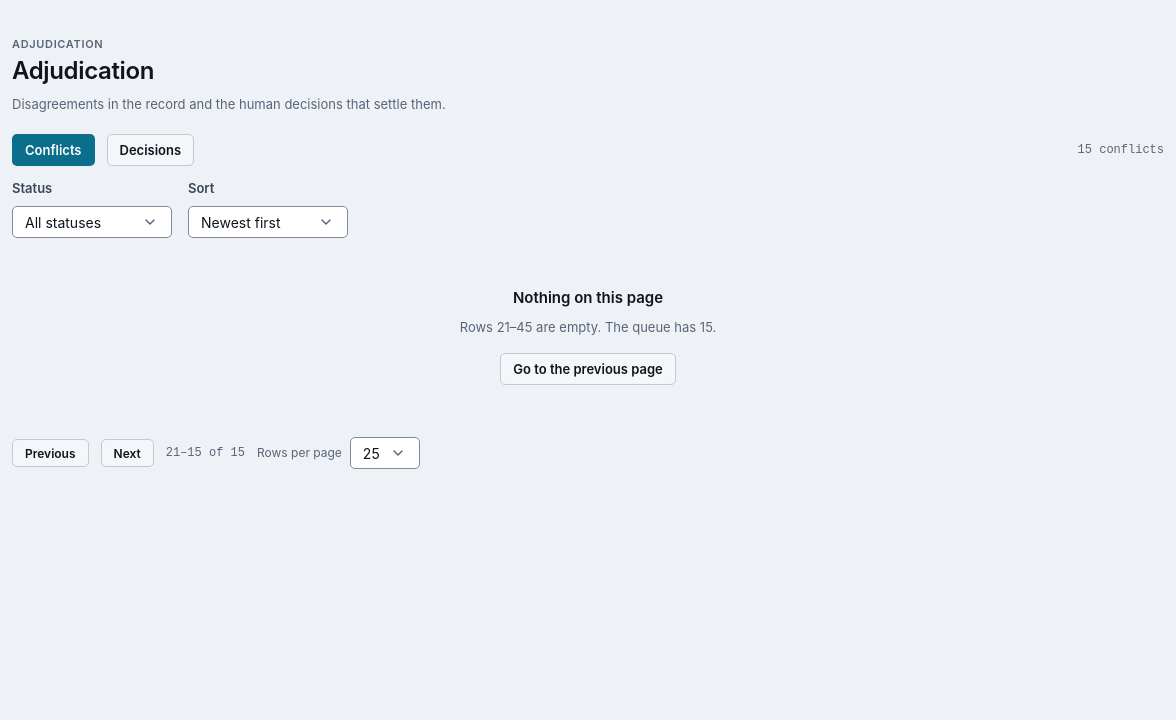
AdjudicationPage › offers a previous-page action when the page is empty but the count is not
What coordinates should you click on to do the following:
click the button "Go to the previous page"
I would click on:
 (588, 369)
Its box is [500, 353, 676, 385].
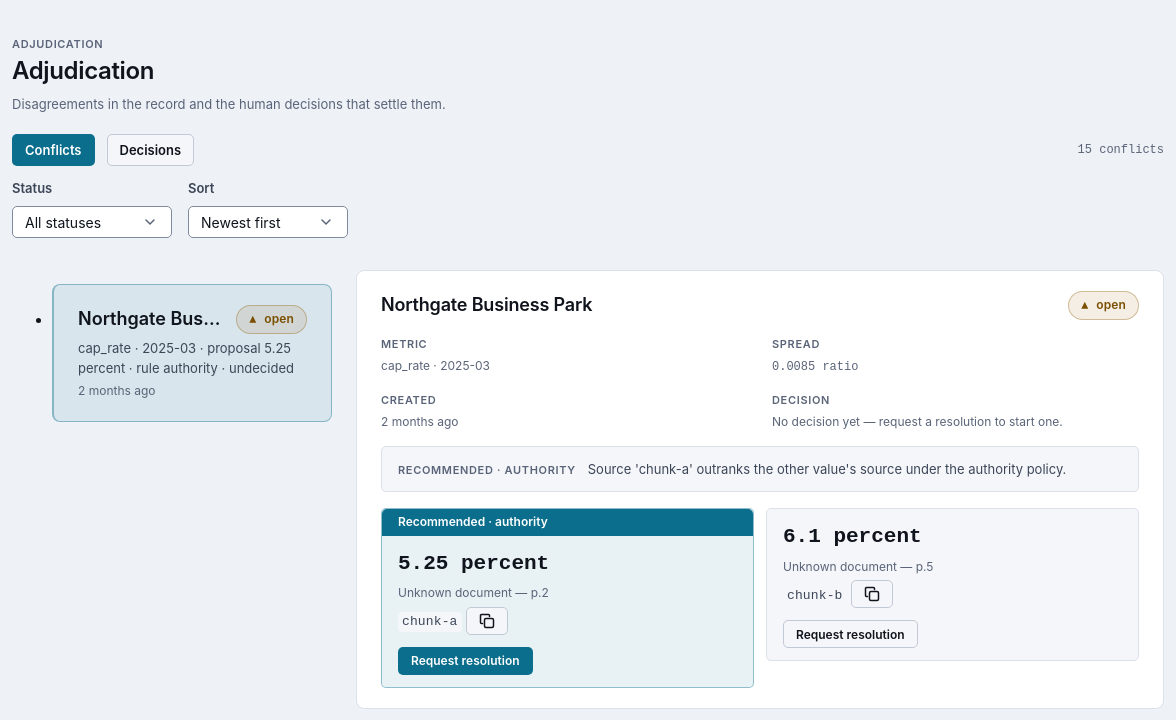
Check: the text "Northgate Business Park" is shown, box [78, 305, 224, 333]
